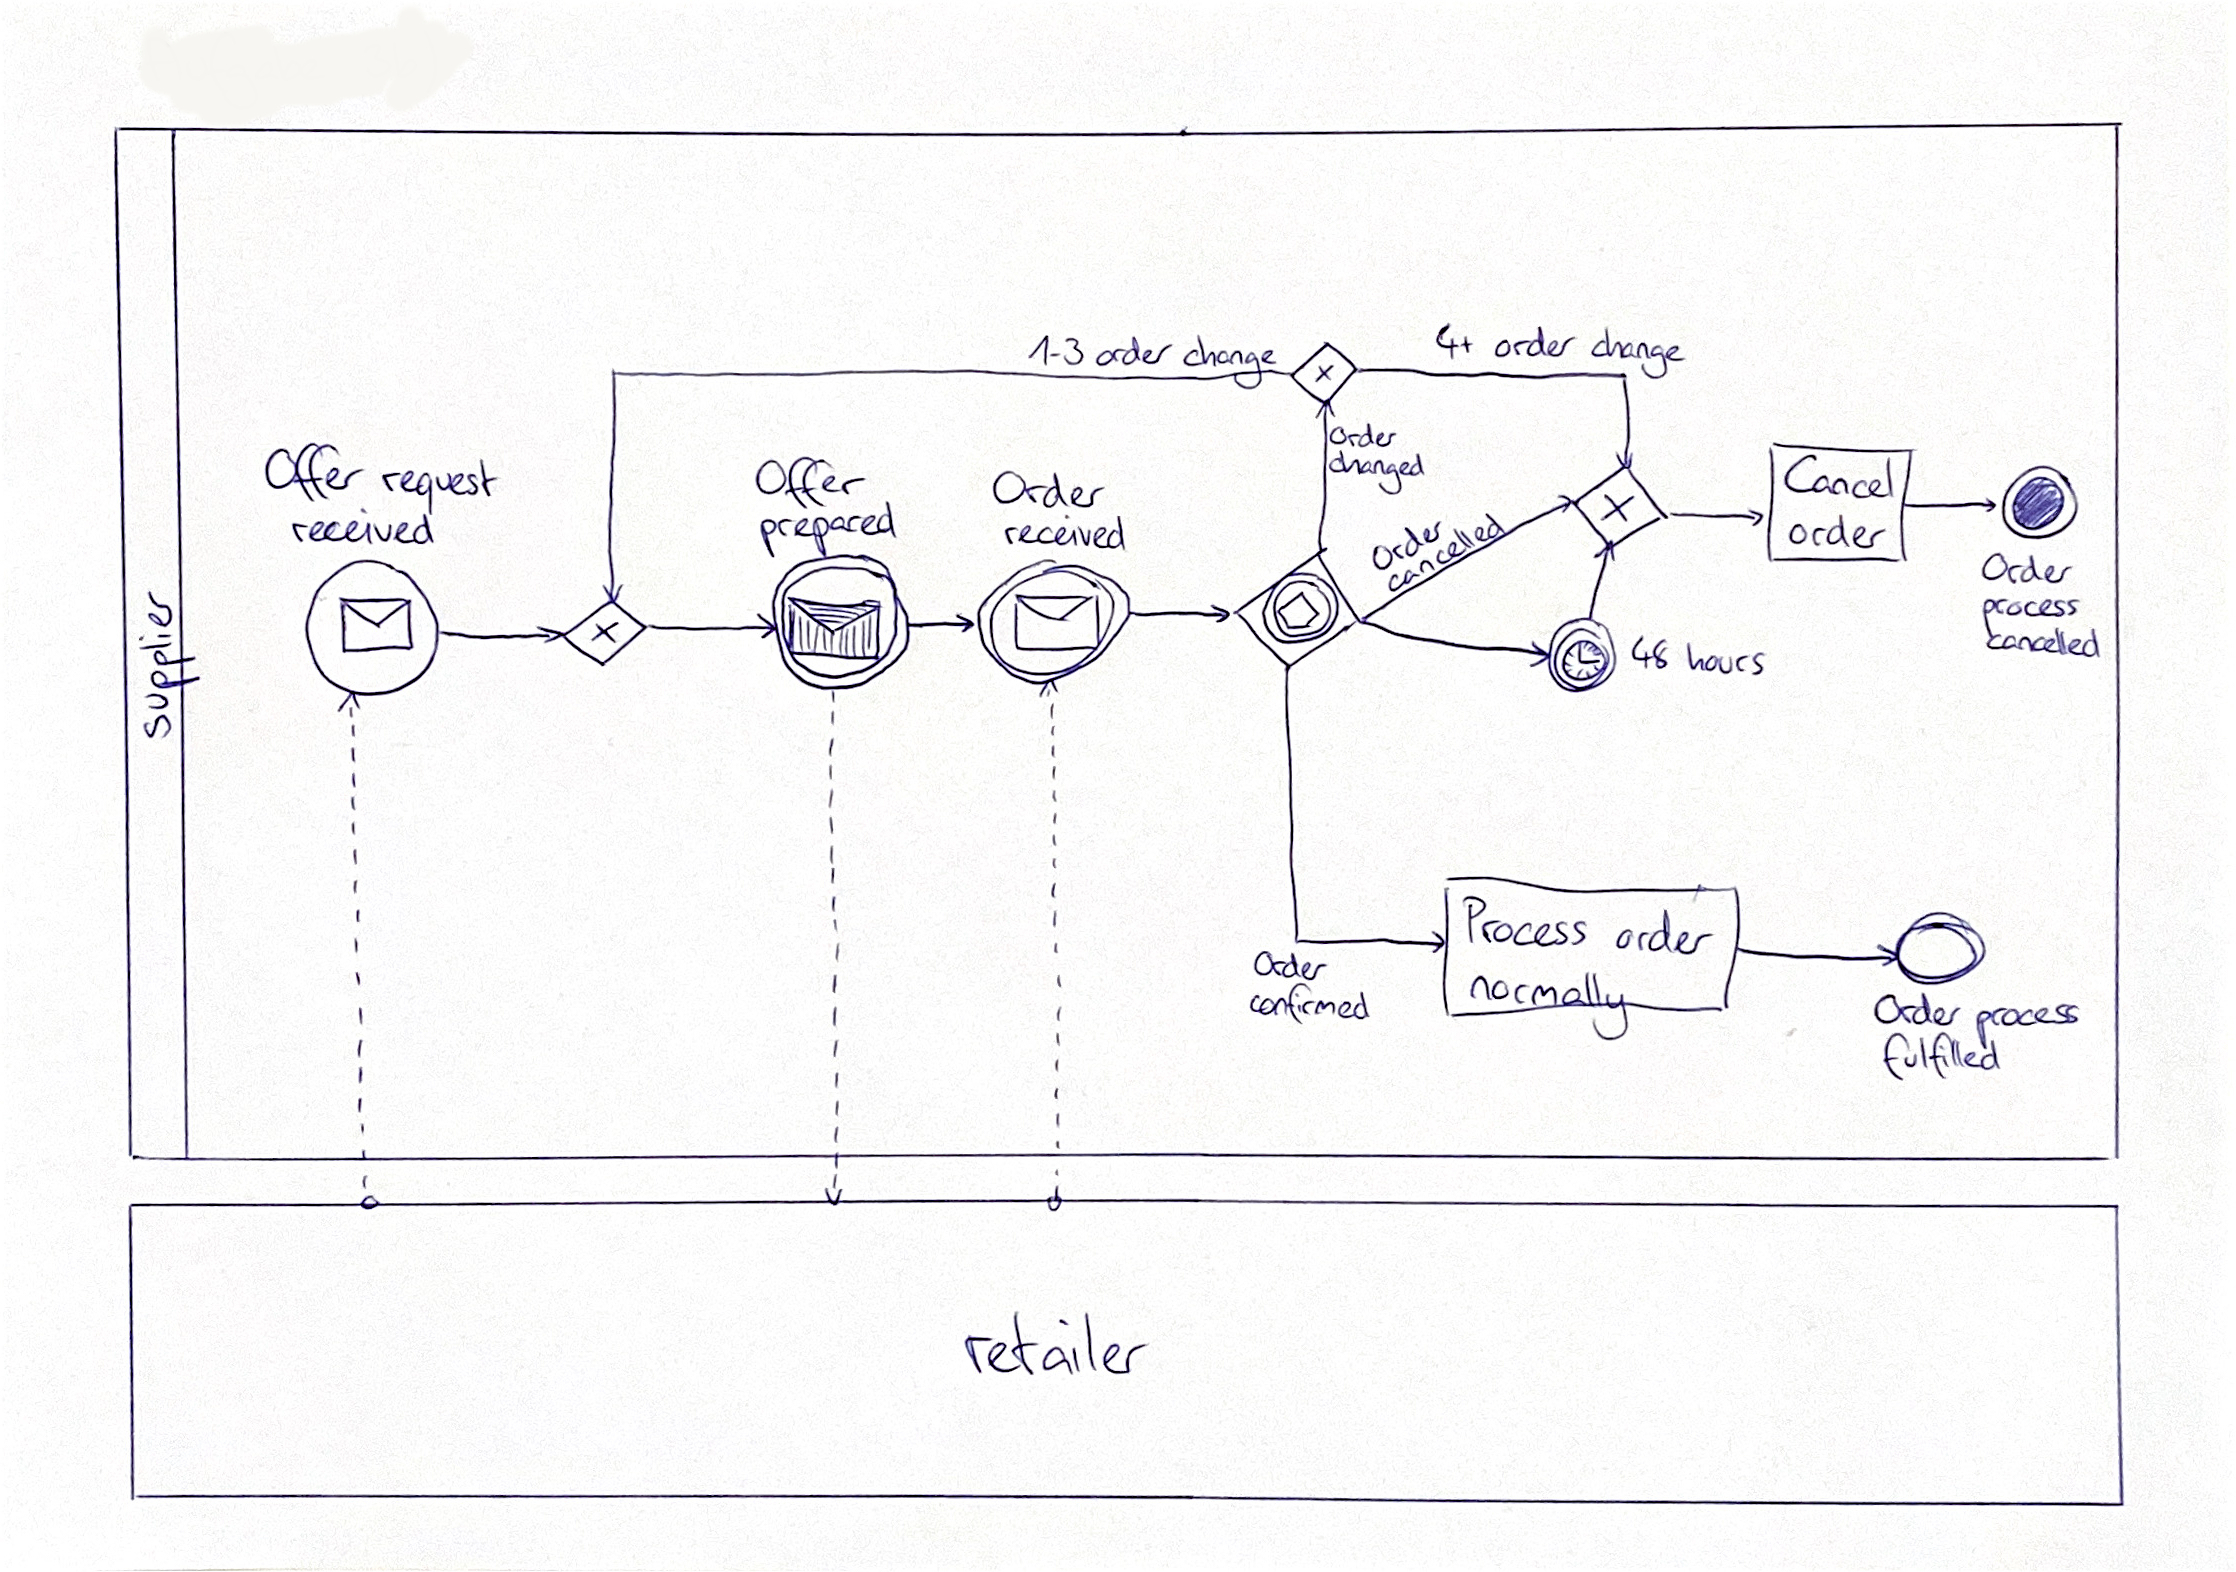1-3: (1029, 333, 1088, 373)
4+: (1439, 323, 1483, 366)
48: (1631, 635, 1682, 677)
Cancel: (1789, 453, 1899, 504)
Offer: (758, 451, 872, 505), (258, 446, 360, 505)
Order: (1371, 509, 1449, 570), (1002, 470, 1107, 514), (1874, 992, 1961, 1031), (1988, 551, 2074, 589), (1255, 949, 1330, 983)
Process: (1457, 898, 1590, 944)
cancelled: (1384, 510, 1507, 599), (1984, 628, 2102, 662)
change: (1585, 327, 1685, 376), (1182, 337, 1280, 376)
changed: (1326, 451, 1427, 481)
confirmed: (1248, 988, 1372, 1028)
fulfilled: (1877, 1034, 2001, 1080)
hours: (1687, 640, 1768, 682)
normally: (1471, 971, 1639, 1016)
order: (1609, 908, 1717, 961), (1490, 323, 1580, 369), (1789, 517, 1891, 553), (1093, 335, 1177, 376), (1321, 420, 1398, 453)
prepared: (753, 504, 903, 556)
process: (1972, 997, 2085, 1033), (1978, 594, 2083, 629)
received: (291, 510, 439, 553), (1002, 521, 1131, 553)
request: (367, 447, 498, 505)
retailer: (962, 1319, 1148, 1383)
supplier: (138, 594, 180, 737)
